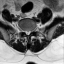CCS_stenosis: (26, 27, 29, 37)
LFS_stenosis: (31, 26, 33, 34)
LLS_normal: (29, 27, 31, 36)
RFS_stenosis: (22, 27, 24, 34)
RLS_normal: (24, 28, 26, 36)
